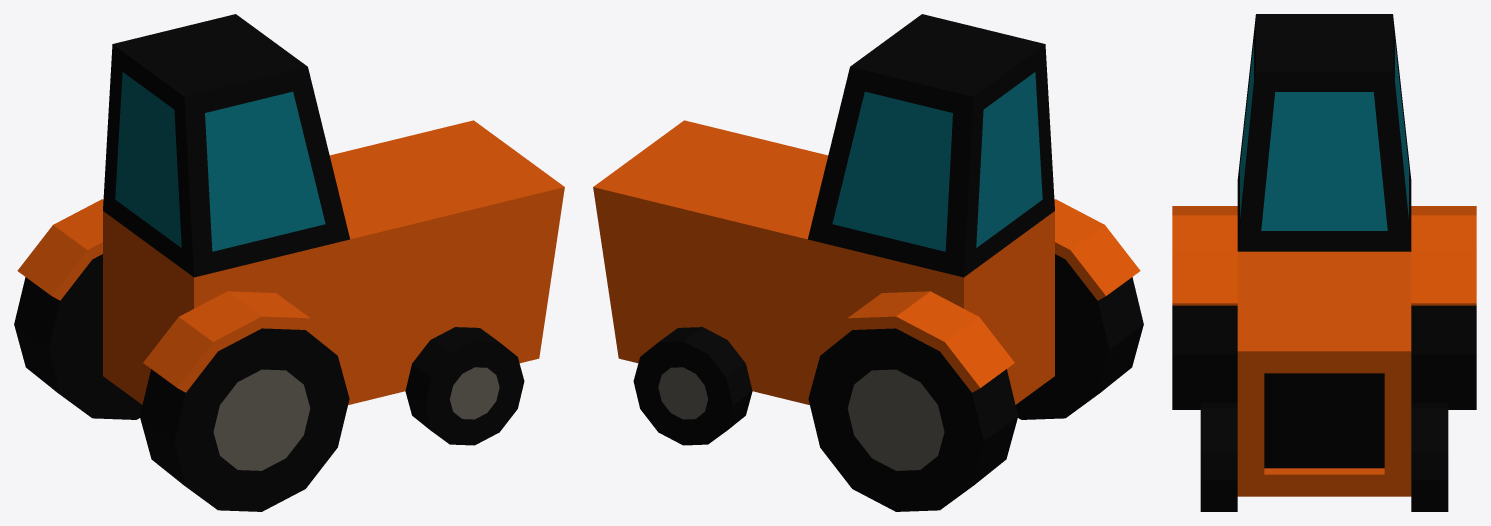
File: FarmTracktorRed.fbx
The picture shows the model from 3 angles, left to right: view 1: azimuth 30°, elevation 25°; view 2: azimuth 150°, elevation 25°; view 3: azimuth 270°, elevation 25°; orthographic projection. The views are drawn at different scales.
Parts seen in each view (by area): view 1: FarmTracktorRed; view 2: FarmTracktorRed; view 3: FarmTracktorRed.
Part boxes in pixels (<box>): FarmTracktorRed: <box>14,14,564,511</box>; FarmTracktorRed: <box>593,14,1143,511</box>; FarmTracktorRed: <box>1172,14,1476,511</box>.
Bounding box in the file's own units: 0.447 × 0.3928 × 0.2916.
